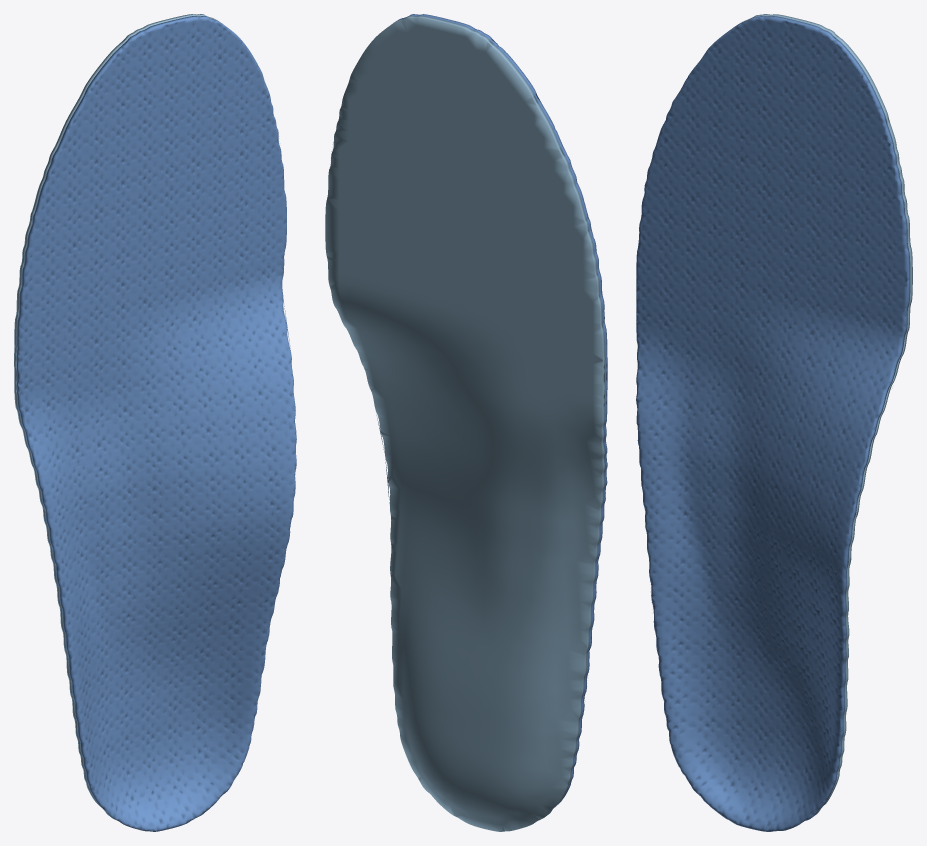
The model's file is PAIR-TOP-COVER_T4_addon.glb.
The picture shows the model from 3 angles, left to right: view 1: azimuth 30°, elevation 25°; view 2: azimuth 150°, elevation 25°; view 3: azimuth 330°, elevation 25°; orthographic projection. The views are drawn at different scales.
Visible parts, largest first — view 1: geometry_0; view 2: geometry_0; view 3: geometry_0.
Part boxes in pixels (x1,y1,x2,y2): geometry_0: [14, 14, 296, 831]; geometry_0: [325, 14, 607, 831]; geometry_0: [636, 14, 912, 831].
Size of the model in its own units: 99.51 by 280 by 24.81.
